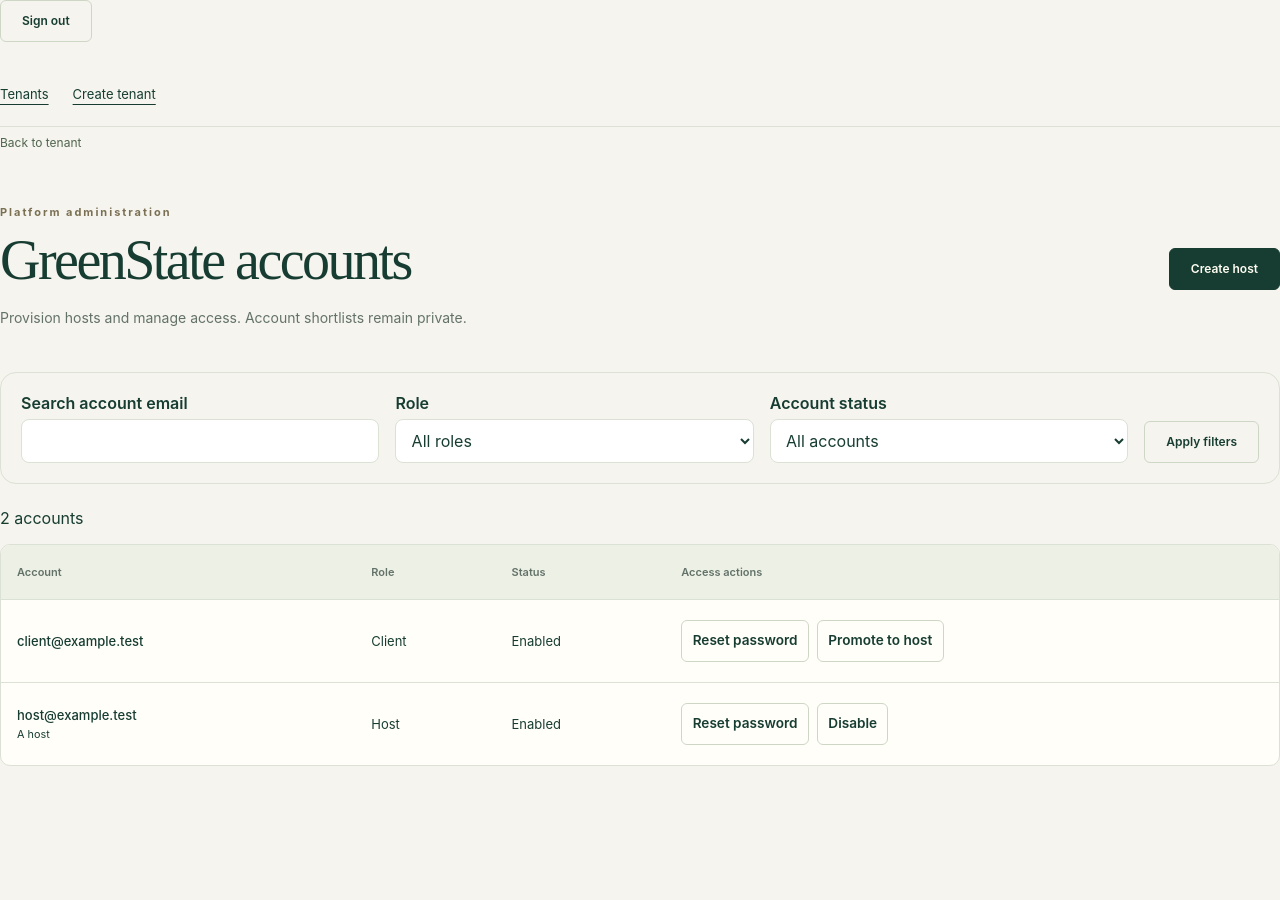
Scenario: confirms disabling a host and allows re-enabling without offering client disable controls
The width and height of the screenshot is (1280, 900).
Expected: the column heading "client@example.test" is shown, top-left (1, 600), bottom-right (355, 682)
Click the button "Disable" at (853, 724), box top-left (817, 703), bottom-right (888, 745)
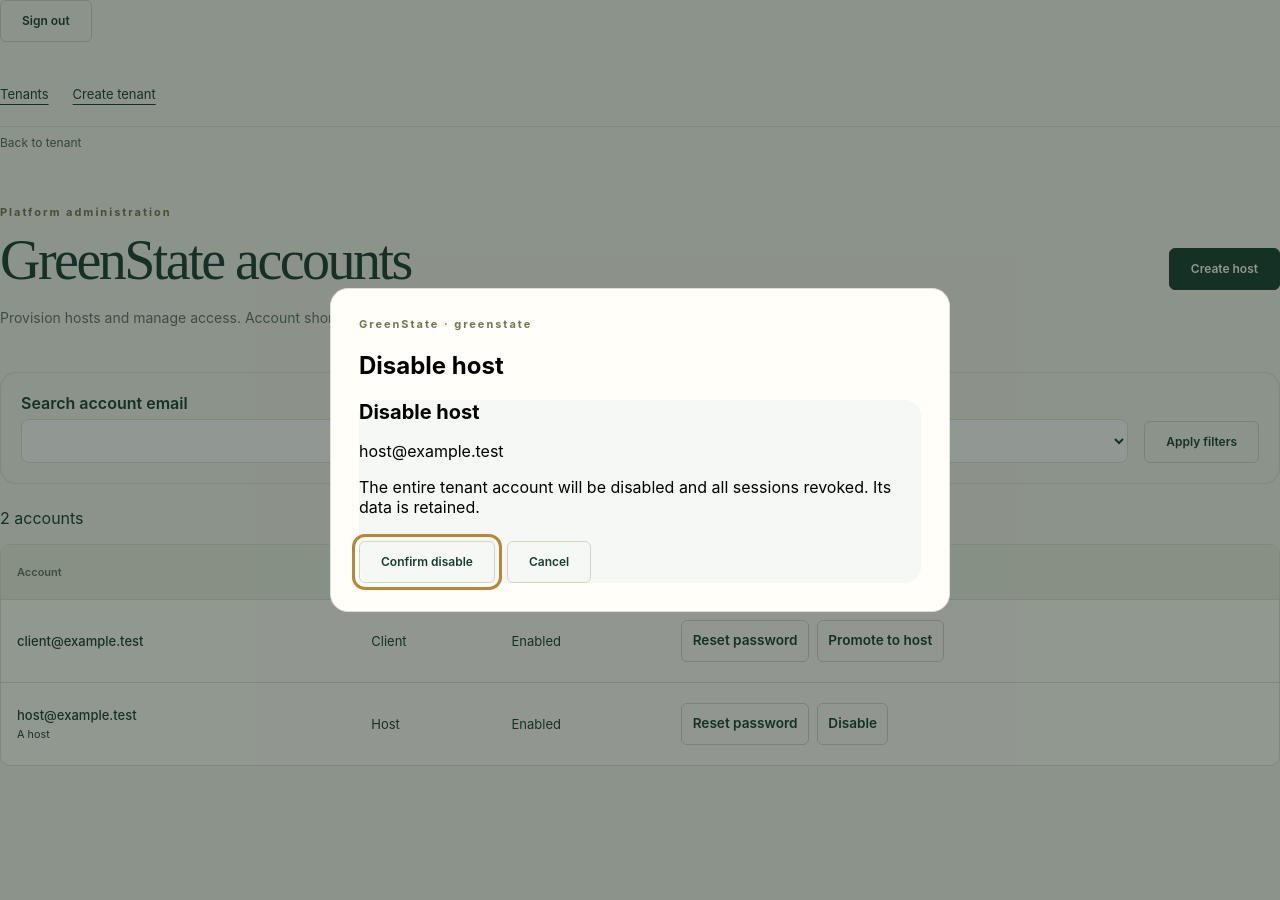
Click the button "Confirm disable" at (427, 562), box top-left (359, 541), bottom-right (495, 583)
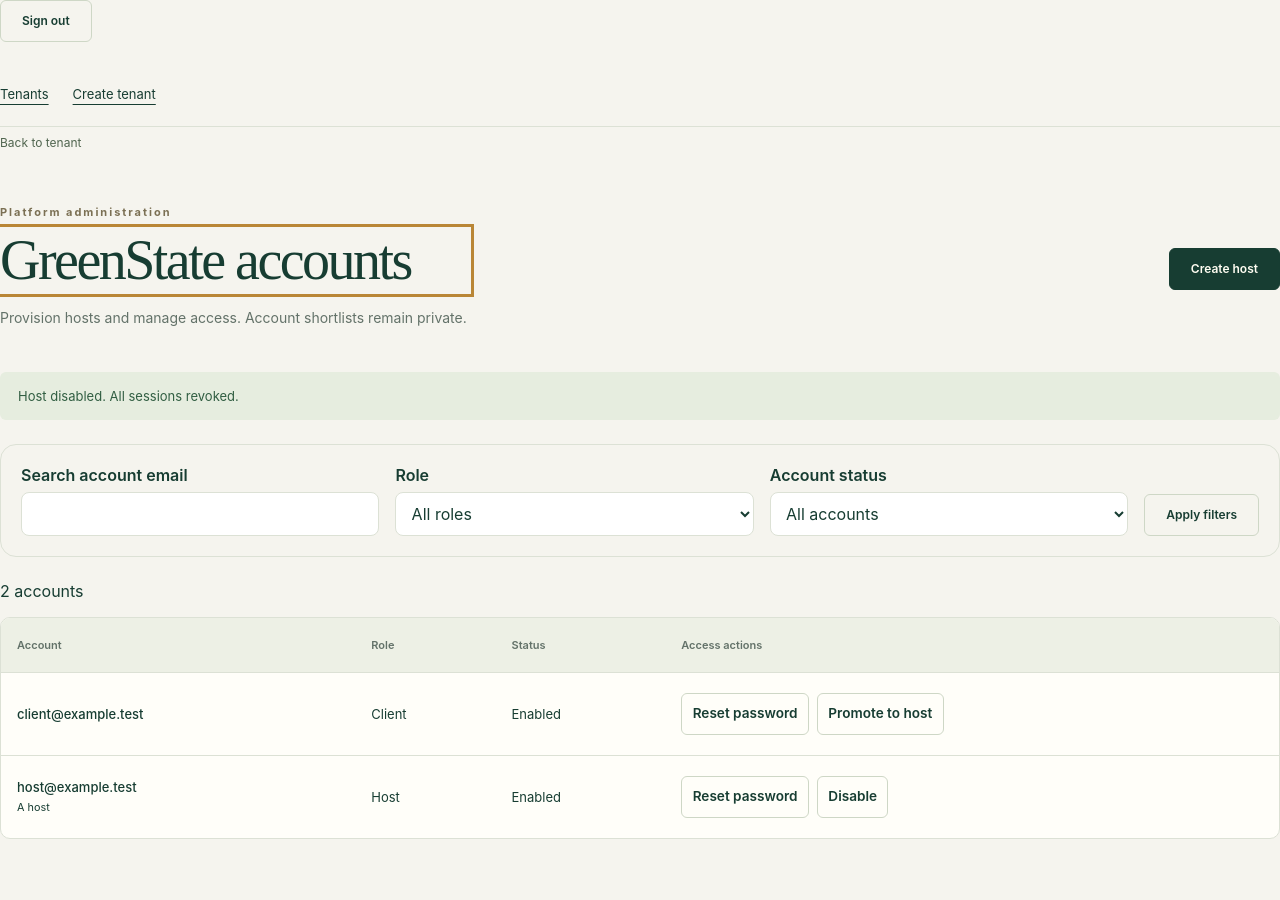
Now the text "Host disabled. All sessions revoked." is shown, box top-left (0, 372), bottom-right (1279, 420)
